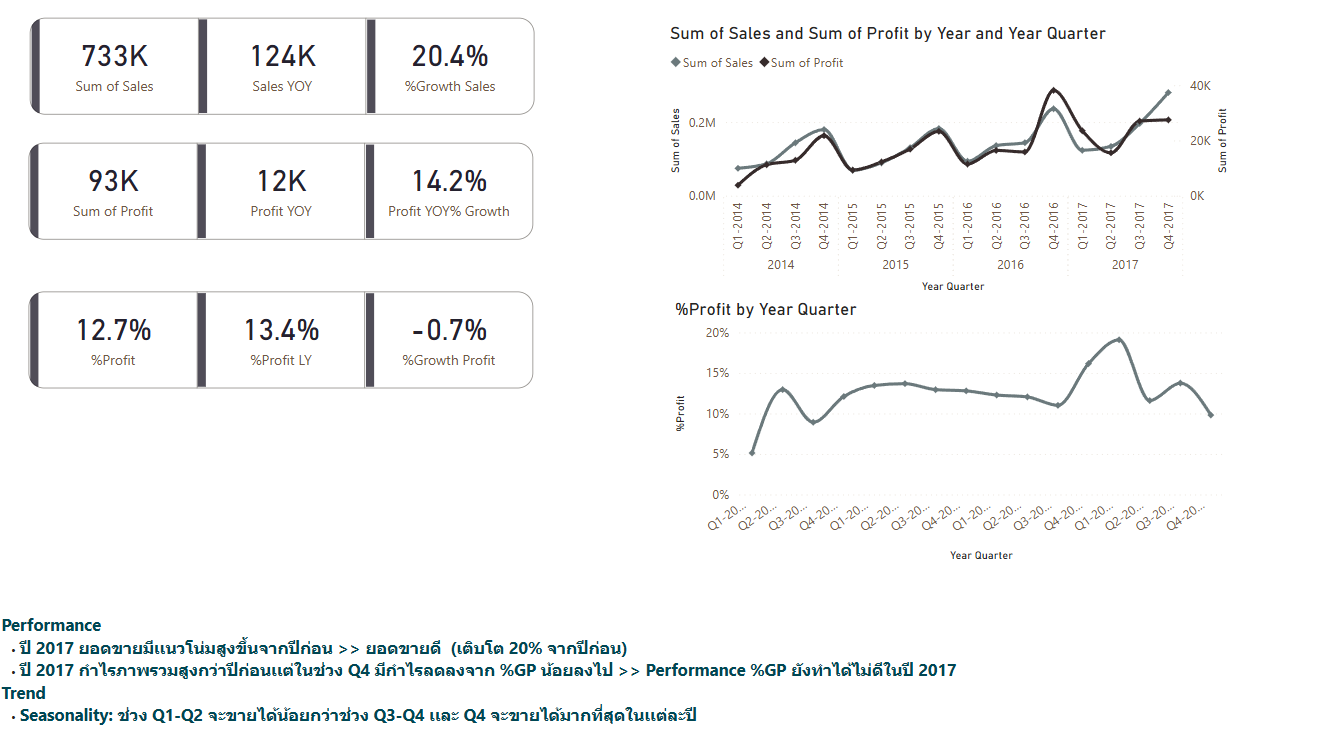

What the dashboard file says about the page in this screenshot:
{"tool":"powerbi","page":{"name":"Descriptive","canvas":[1280,720],"ordinal":0},"visuals":[{"type":"lineChart","fields":{"Category":["DimDate.Year","DimDate.Year Quarter","DimDate.Year Month"],"Y":["Sum(Sales.Sales)"],"Y2":["Sum(Sales.Profit)"]},"box":[645.4,29,550.1,266.6],"z":0},{"type":"lineChart","fields":{"Category":["DimDate.Year","DimDate.Year Quarter"],"Y":["Sales.Profit%"]},"box":[650.3,295.6,539.3,259.4],"z":1000},{"type":"textbox","box":[0,594.2,1280.3,125.9],"z":2000},{"type":"cardVisual","fields":{"Data":["Sum(Sales.Sales)","Sales.Sales YOY","Sales.Sales YOY% Growth"]},"box":[27.5,0,498.3,143.6],"z":3000},{"type":"cardVisual","fields":{"Data":["Sum(Sales.Profit)","Sales.Profit YOY","Sales.Profit YOY% Growth"]},"box":[27.1,120.6,497.6,143.3],"z":4000},{"type":"cardVisual","fields":{"Data":["Sales.Profit%","Sales.%Profit LY","Sales.%Profit YOY"]},"box":[26.5,264.2,497.1,143.6],"z":5000}]}

Visuals, with their boxes in screenshot pixels (x1, y1, x2, y2), scaled from the page's 1280x720 canvas onto the 1317x733 screenshot:
lineChart - DimDate.Year x DimDate.Year Quarter: <region>664, 30, 1230, 301</region>
lineChart - DimDate.Year x DimDate.Year Quarter: <region>669, 301, 1224, 565</region>
textbox: <region>0, 605, 1316, 732</region>
cardVisual - Sum(Sales.Sales) x Sales.Sales YOY: <region>28, 0, 541, 146</region>
cardVisual - Sum(Sales.Profit) x Sales.Profit YOY: <region>28, 123, 540, 269</region>
cardVisual - Sales.Profit% x Sales.%Profit LY: <region>27, 269, 539, 415</region>
